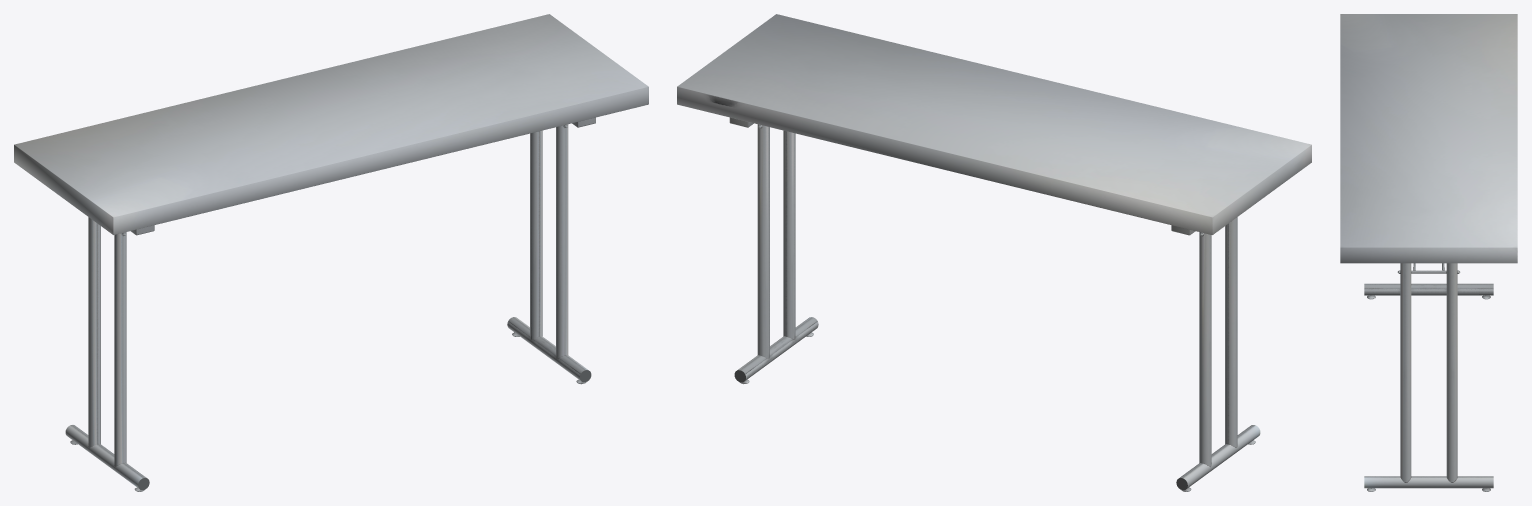
File: convent.glb
3 renders of one model, left to right at view 1: azimuth 30°, elevation 25°; view 2: azimuth 150°, elevation 25°; view 3: azimuth 270°, elevation 25°, orthographic. The views are drawn at different scales.
Parts seen in each view (by area): view 1: convent-white; view 2: convent-white; view 3: convent-white.
Part boxes in pixels (x1,y1,x2,y2): convent-white: (14,14,648,491); convent-white: (677,14,1311,491); convent-white: (1340,14,1517,491).
Size of the model in its own units: 1.4 by 0.74 by 0.45.
Materials: 1 (1 with a texture image).
